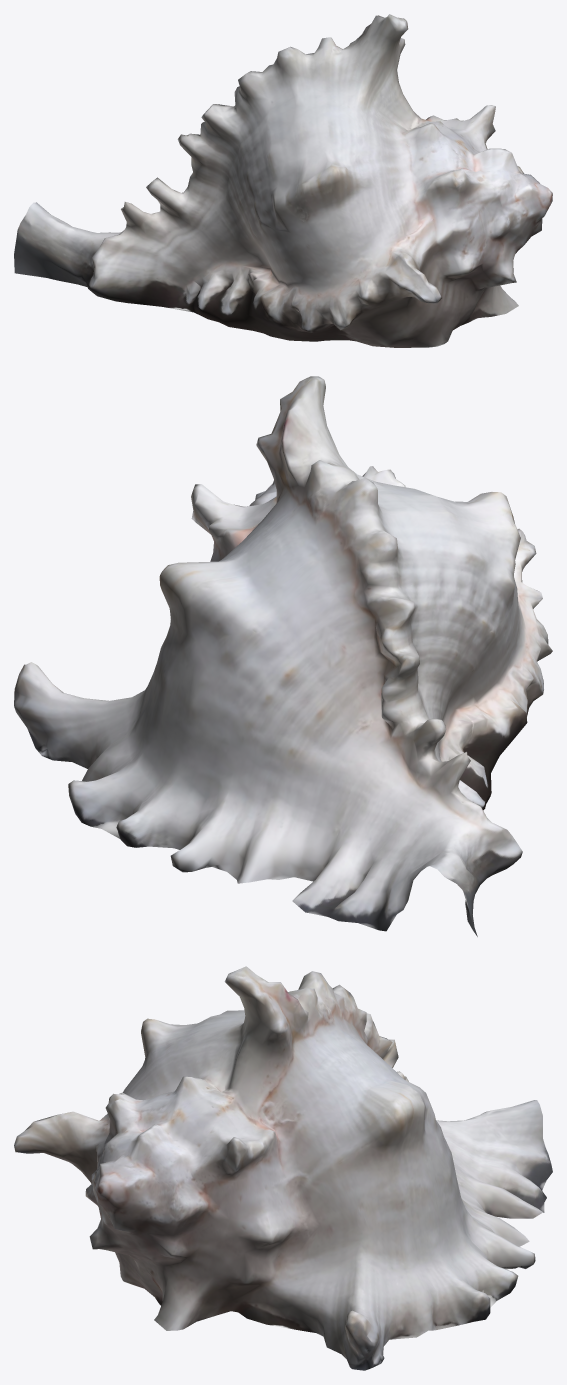
File: Concha2.fbx
3 renders of one model, top to bottom at view 1: azimuth 30°, elevation 25°; view 2: azimuth 150°, elevation 25°; view 3: azimuth 270°, elevation 25°, orthographic. The views are drawn at different scales.
Parts seen in each view (by area): view 1: CONCH_LOW; view 2: CONCH_LOW; view 3: CONCH_LOW.
Boxes of the visible parts, x1,y1,x2,y2 form: CONCH_LOW: (14, 14, 552, 347); CONCH_LOW: (14, 376, 552, 936); CONCH_LOW: (14, 966, 552, 1370).
Size of the model in its own units: 11007 by 6972 by 10773.
